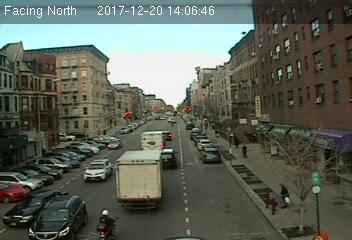car: (28, 195, 87, 240), (4, 189, 69, 229), (83, 159, 113, 182), (158, 147, 177, 168), (202, 147, 221, 162), (107, 138, 122, 149)
pedestrian: (279, 180, 292, 211)
truck: (115, 150, 166, 210), (139, 130, 165, 153)
